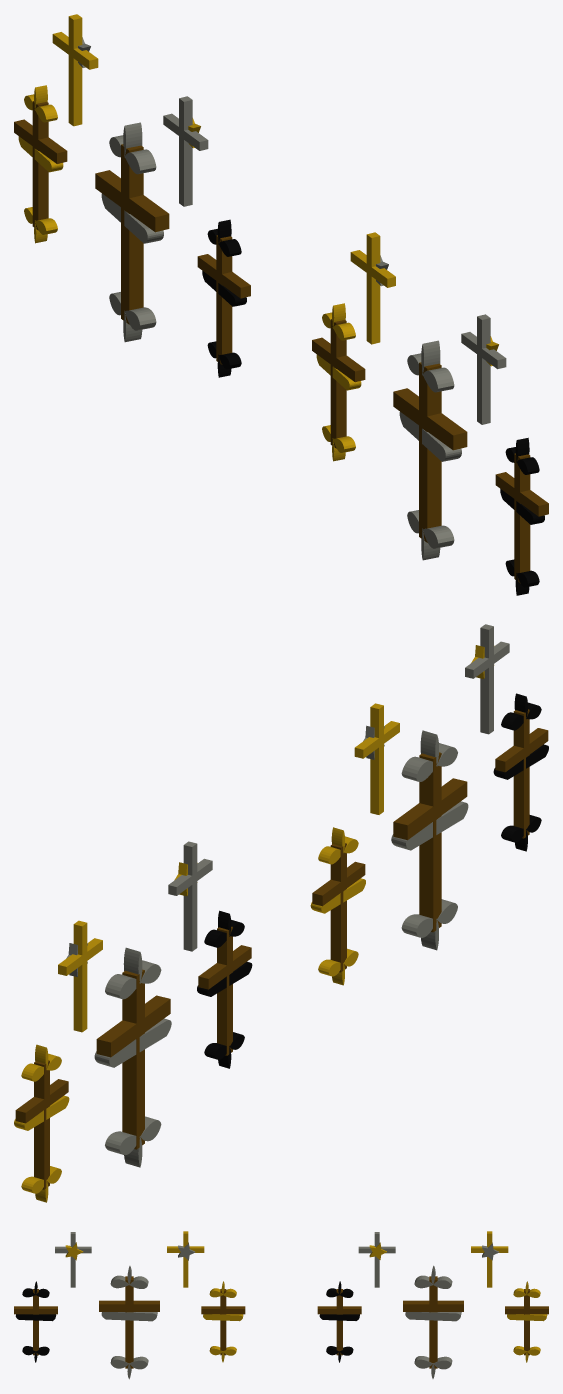
The model's file is cross.fbx.
The picture shows the model from 3 angles, top to bottom: view 1: azimuth 30°, elevation 25°; view 2: azimuth 150°, elevation 25°; view 3: azimuth 270°, elevation 25°; orthographic projection. The views are drawn at different scales.
Parts seen in each view (by area): view 1: cross.008, cross.3, cross.1, cross.5, cross.4, cross.2; view 2: cross.008, cross.3, cross.1, cross.5, cross.4, cross.2; view 3: cross.008, cross.3, cross.5, cross.1, cross.2, cross.4.
Part boxes in pixels (x1=…): cross.008: x1=14, y1=14, x2=250, y2=377; cross.3: x1=393, y1=340, x2=467, y2=560; cross.1: x1=495, y1=437, x2=548, y2=595; cross.5: x1=312, y1=303, x2=365, y2=461; cross.4: x1=350, y1=232, x2=395, y2=344; cross.2: x1=461, y1=314, x2=506, y2=424; cross.008: x1=14, y1=841, x2=252, y2=1202; cross.3: x1=391, y1=730, x2=468, y2=950; cross.1: x1=493, y1=693, x2=548, y2=851; cross.5: x1=310, y1=827, x2=365, y2=985; cross.4: x1=354, y1=703, x2=399, y2=814; cross.2: x1=465, y1=624, x2=509, y2=734; cross.008: x1=317, y1=1231, x2=548, y2=1378; cross.3: x1=99, y1=1266, x2=159, y2=1379; cross.5: x1=201, y1=1281, x2=245, y2=1362; cross.1: x1=14, y1=1281, x2=57, y2=1362; cross.2: x1=55, y1=1232, x2=91, y2=1287; cross.4: x1=167, y1=1231, x2=204, y2=1287.
Bounding box in the file's own units: 22.37 × 256 × 857.
